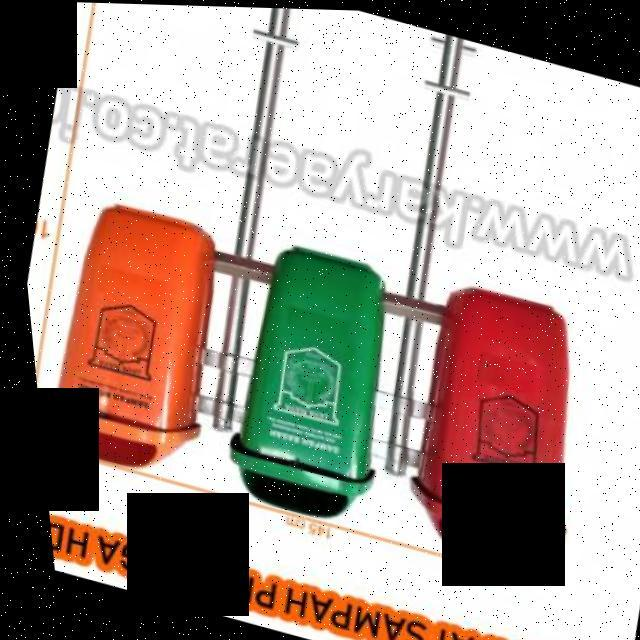bin: (351, 258, 627, 590), (14, 180, 252, 492), (188, 227, 424, 534)
